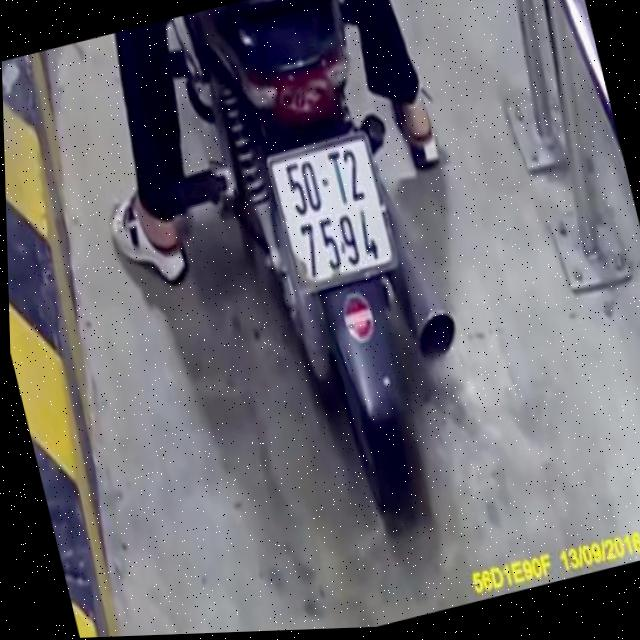motorcycle: (150, 0, 515, 577)
plate: (255, 123, 410, 299)
